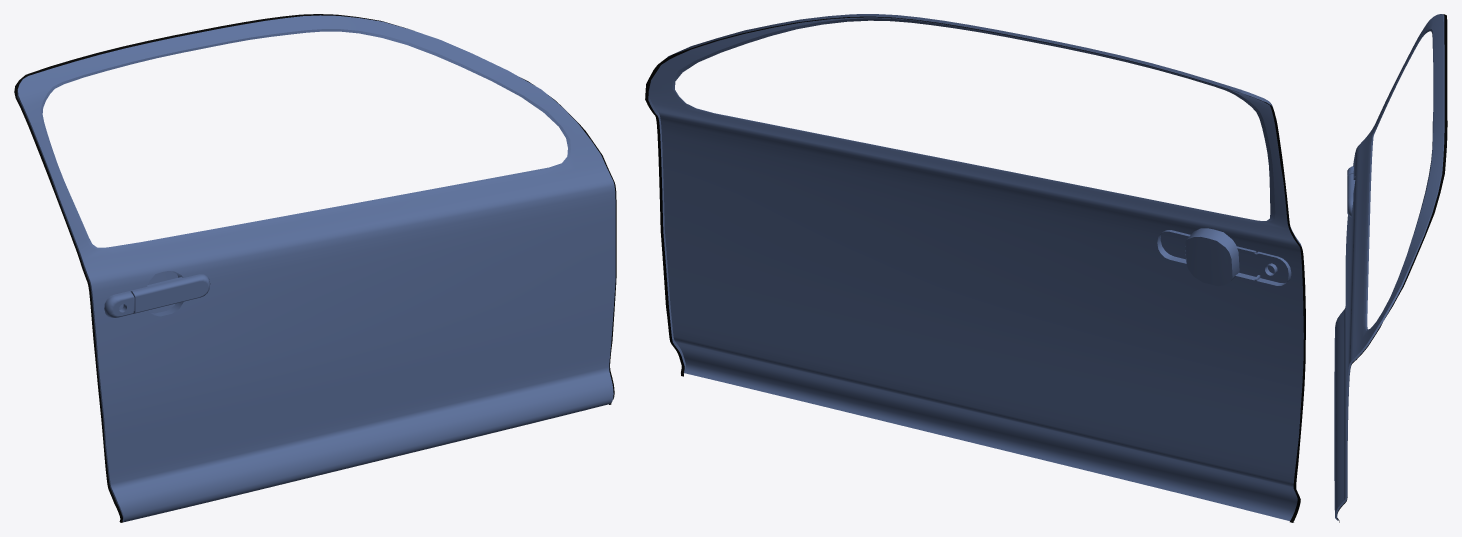
The picture shows the model from 3 angles, left to right: view 1: azimuth 30°, elevation 25°; view 2: azimuth 150°, elevation 25°; view 3: azimuth 270°, elevation 25°; orthographic projection. The views are drawn at different scales.
Parts seen in each view (by area): view 1: U236_17_281B_R_U236_17_281B_R_2_DaS, U236_17_281B_R_U236_17_281B_R_2_DaS_E, U236_17_281B_R_3_D_U236_17_281B_R, U236_17_281B_R_U236_17_281B_R_1_DaS; view 2: U236_17_281B_R_U236_17_281B_R_2_DaS, U236_17_281B_R_U236_17_281B_R_2_DaS_E, U236_17_281B_R_3_D_U236_17_281B_R; view 3: U236_17_281B_R_U236_17_281B_R_2_DaS, U236_17_281B_R_U236_17_281B_R_2_DaS_E, U236_17_281B_R_3_D_U236_17_281B_R, U236_17_281B_R_U236_17_281B_R_1_DaS.
Boxes of the visible parts, box(x1,y1,x2,y2) form: U236_17_281B_R_U236_17_281B_R_2_DaS: box(17, 15, 615, 521); U236_17_281B_R_U236_17_281B_R_2_DaS_E: box(17, 29, 570, 521); U236_17_281B_R_3_D_U236_17_281B_R: box(14, 14, 616, 522); U236_17_281B_R_U236_17_281B_R_1_DaS: box(104, 274, 210, 318); U236_17_281B_R_U236_17_281B_R_2_DaS: box(649, 17, 1303, 520); U236_17_281B_R_U236_17_281B_R_2_DaS_E: box(648, 14, 1301, 373); U236_17_281B_R_3_D_U236_17_281B_R: box(645, 16, 1305, 522); U236_17_281B_R_U236_17_281B_R_2_DaS: box(1334, 14, 1443, 517); U236_17_281B_R_U236_17_281B_R_2_DaS_E: box(1335, 15, 1444, 520); U236_17_281B_R_3_D_U236_17_281B_R: box(1337, 14, 1447, 522); U236_17_281B_R_U236_17_281B_R_1_DaS: box(1347, 166, 1355, 216).
Size of the model in its own units: 150 by 107 by 34.79.
